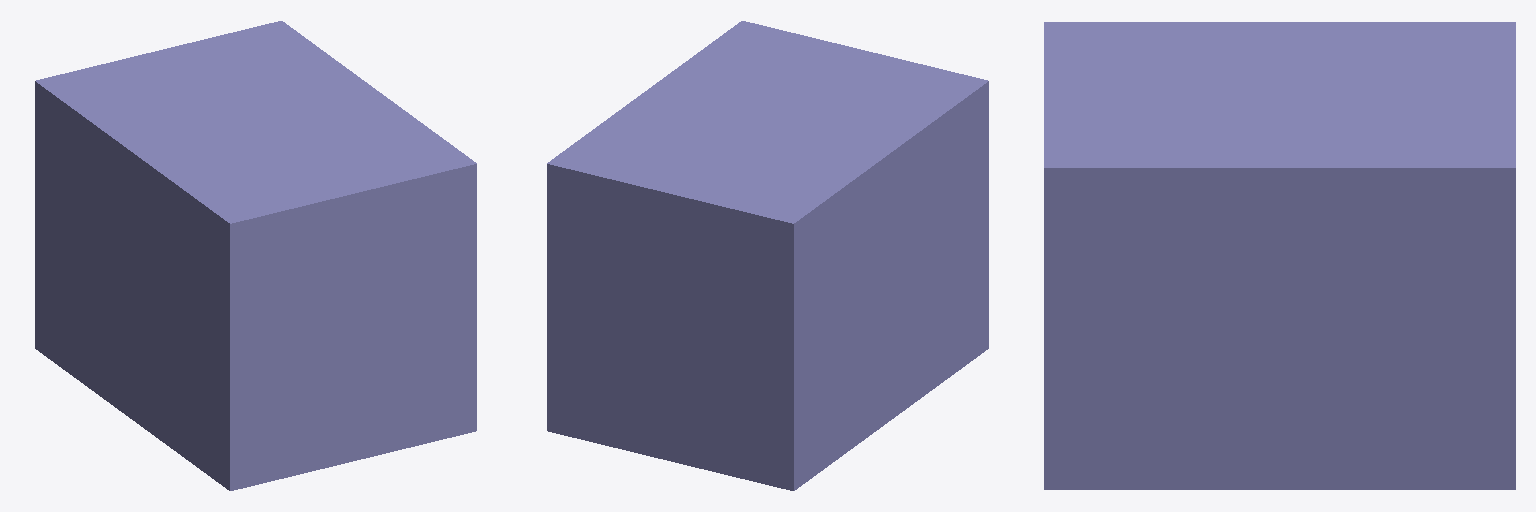
URDF robot description (box.urdf):
<?xml version="1.0" ?>
<robot name="box.urdf">
  <link name="baseLink">
    <contact>
      <lateral_friction value="1.0"/>
      <rolling_friction value="0.0001"/>
      <inertia_scaling value="3.0"/>
    </contact>
    <inertial>
      <origin rpy="0 0 0" xyz="0 0 0"/>
       <mass value="0.1"/>
       <inertia ixx="1" ixy="0" ixz="0" iyy="1" iyz="0" izz="1"/>
    </inertial>
    <visual>
      <origin rpy="0 0 0" xyz="0 0 0"/>
      <geometry>
        <!-- <box size="0.235 0.322 0.243"/> -->
        <mesh filename="box/box.obj" scale="0.235 0.322 0.243"/>
      </geometry>
      <material name="white">
        <color rgba="0.6 0.6 0.8 1"/>
      </material>
    </visual>
    <collision>
      <origin rpy="0 0 0" xyz="0 0 0"/>
      <geometry>
        <mesh filename="box/box.obj" scale="0.235 0.322 0.243"/>
	 	    <!-- <box size="0.235 0.322 0.243"/> -->
      </geometry>
    </collision>
  </link>
</robot>

--- Facts derived from the render (not from the file) ---
3 views of the same robot in one strip: view 1: azimuth 30°, elevation 25°; view 2: azimuth 150°, elevation 25°; view 3: azimuth 270°, elevation 25° (orthographic).
Model box.urdf with 1 links and 0 joints (none), rooted at baseLink, posed every joint at zero.
Visible links, largest first — view 1: baseLink; view 2: baseLink; view 3: baseLink.
Link boxes in pixels (<box>): baseLink: <box>35,21,476,490</box>; baseLink: <box>547,21,988,490</box>; baseLink: <box>1044,22,1515,489</box>.
Size in the robot's own frame: 0.235 by 0.322 by 0.243 metres.
Meshes: 1 distinct files referenced, 1 mesh visuals loaded (1 OBJ).
